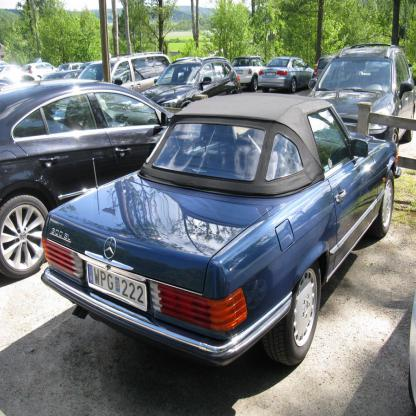Car: (0, 44, 416, 368)
